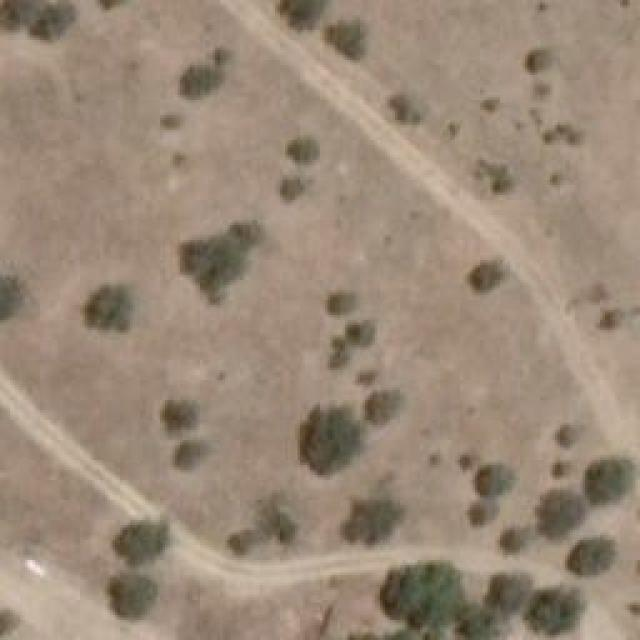Tree: (382, 560, 470, 630), (178, 232, 251, 300), (293, 413, 363, 478), (520, 587, 580, 635), (340, 500, 398, 548), (530, 488, 583, 538), (85, 288, 133, 338), (113, 520, 166, 563), (113, 570, 156, 620), (580, 460, 625, 505), (325, 23, 368, 66), (175, 63, 218, 103), (455, 600, 498, 639), (570, 535, 613, 573), (33, 2, 73, 40), (487, 573, 525, 613), (473, 257, 513, 295), (280, 0, 327, 32), (475, 460, 513, 498), (0, 259, 22, 322), (160, 398, 198, 433), (228, 218, 264, 253), (0, 0, 37, 32), (363, 390, 396, 425), (173, 438, 206, 468), (345, 320, 375, 353), (288, 133, 318, 163), (600, 305, 628, 337), (465, 498, 493, 528), (522, 48, 550, 78), (225, 530, 255, 555), (278, 177, 303, 205), (390, 92, 415, 120), (208, 43, 236, 66), (328, 293, 353, 318), (498, 528, 523, 553), (478, 95, 506, 117), (553, 425, 578, 448), (455, 452, 480, 474), (0, 608, 18, 638), (158, 112, 181, 130), (353, 370, 373, 388), (548, 460, 568, 478), (170, 150, 185, 165)
